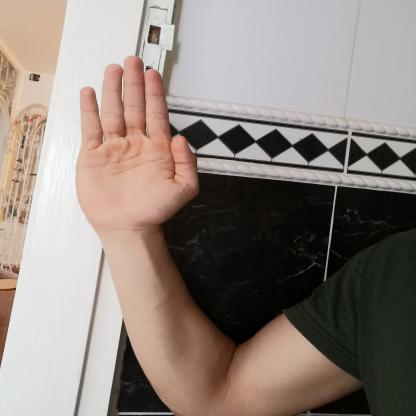SEEN: (64, 48, 206, 238)
